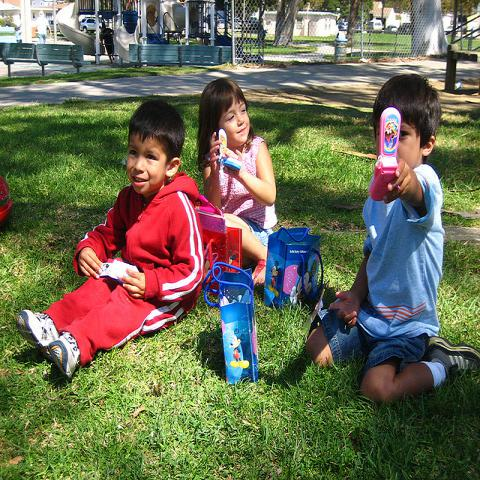car: (79, 17, 96, 34), (367, 21, 383, 36), (395, 22, 411, 36), (384, 26, 397, 34), (49, 20, 53, 25)
truck: (80, 17, 102, 33), (366, 20, 382, 33)
